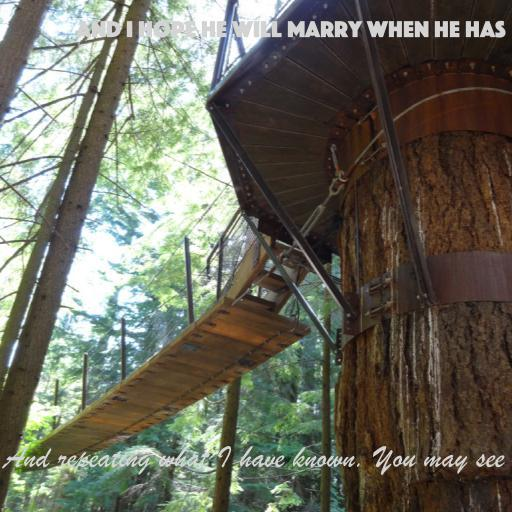Brush Script MT: (4, 445, 504, 476)
Phosphate: (76, 20, 506, 38)
